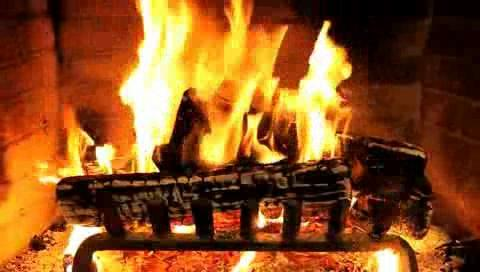fire: (128, 9, 352, 176)
